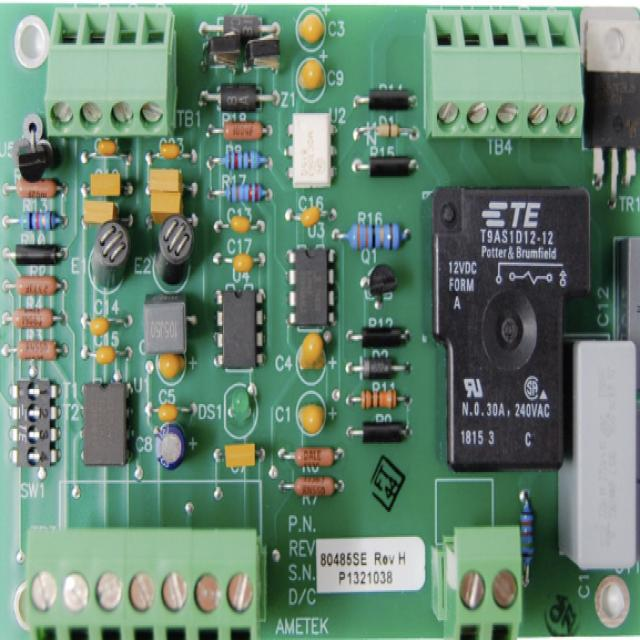Electrolytic capacitor: (148, 424, 190, 480)
IC: (80, 380, 132, 472), (284, 247, 334, 331), (214, 286, 264, 368)
led: (226, 386, 258, 433)
resistor: (351, 385, 406, 417), (348, 223, 402, 252), (215, 180, 262, 206), (218, 150, 262, 176), (18, 210, 60, 237)
transistor: (361, 266, 399, 310)
